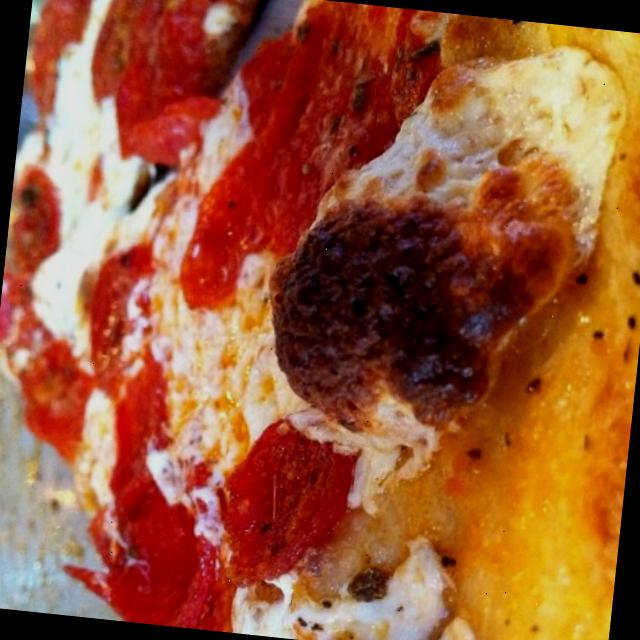pizza: (0, 0, 640, 640)
tomato: (72, 239, 196, 521), (214, 408, 359, 592), (178, 133, 319, 316), (71, 492, 243, 632), (111, 0, 232, 156), (10, 324, 104, 476), (299, 44, 412, 170), (232, 12, 320, 158), (0, 155, 68, 306), (26, 0, 90, 96), (91, 0, 149, 92)
